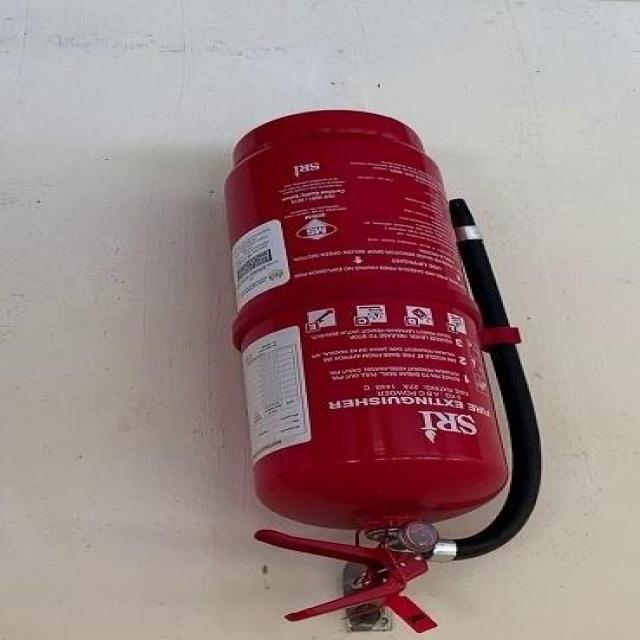fire_extinguisher: (215, 104, 552, 639)
